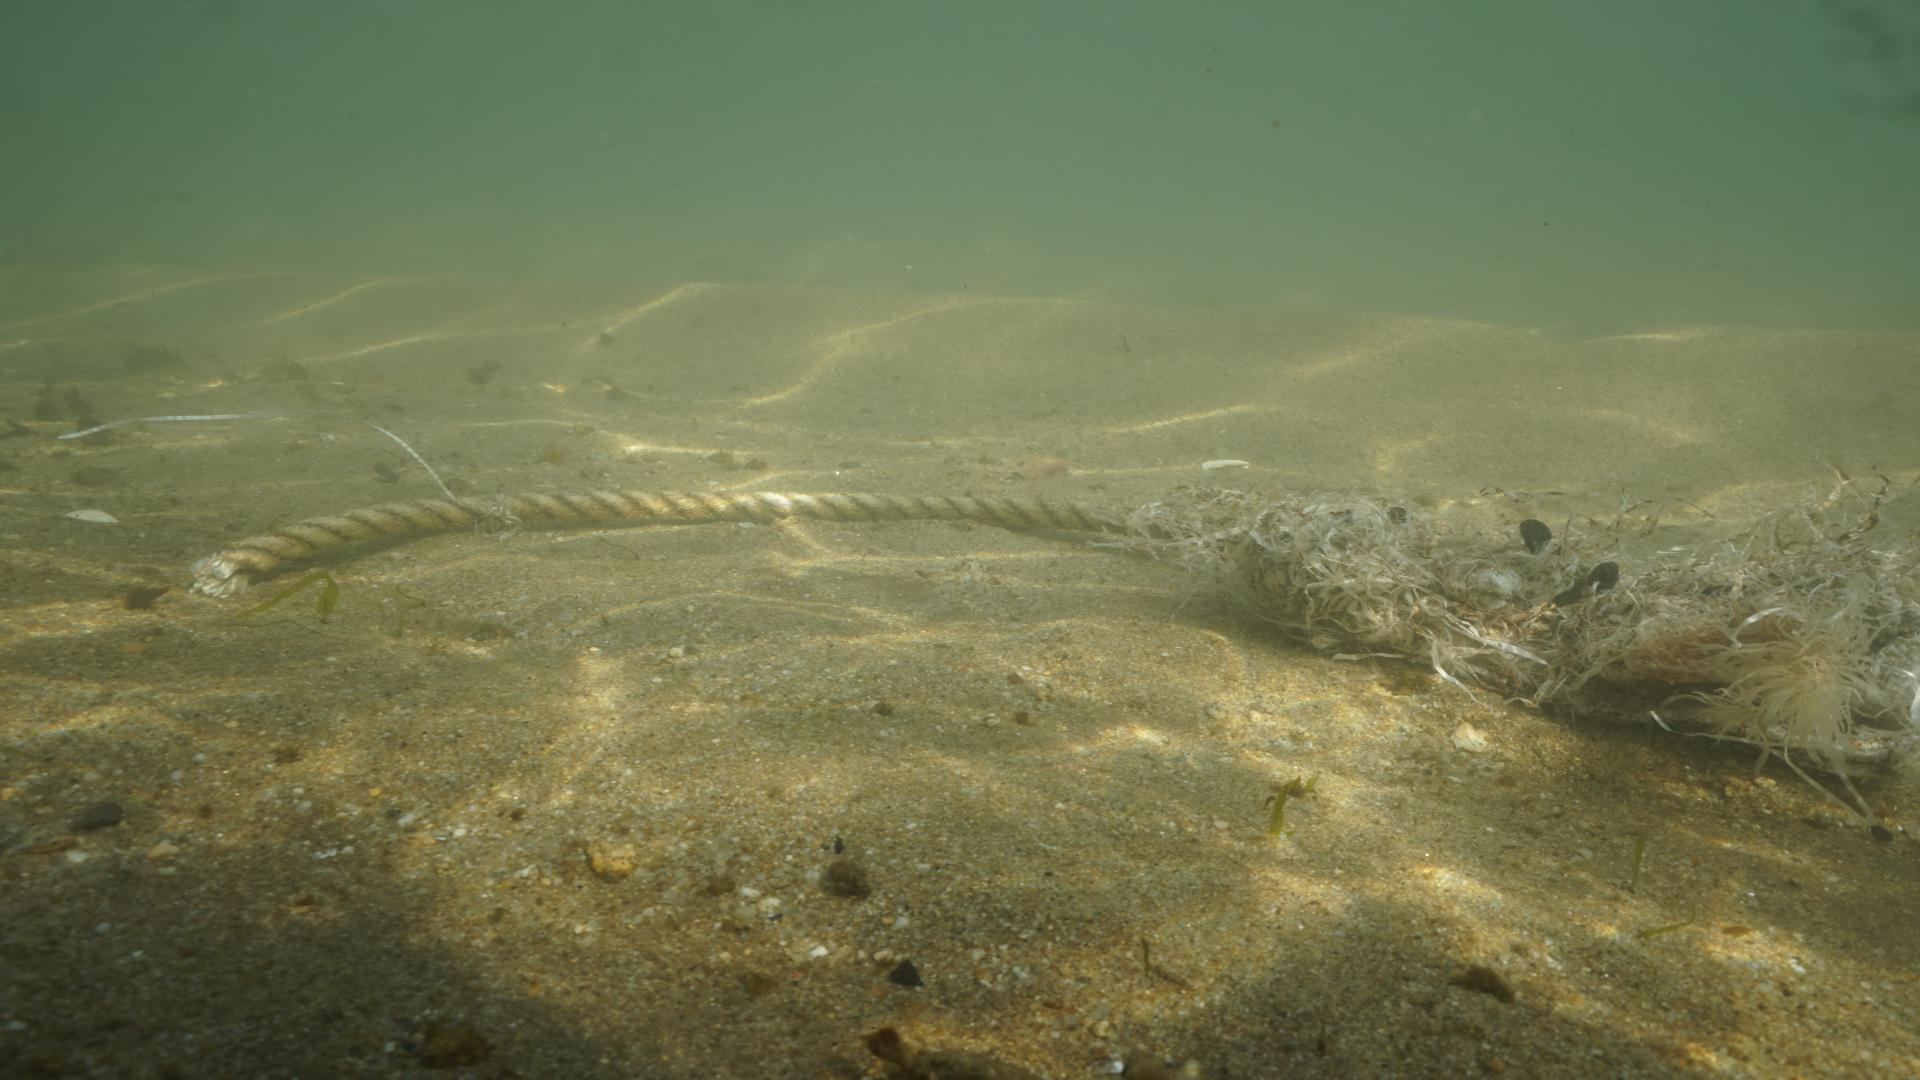bundle of ropes: (208, 483, 1120, 567)
